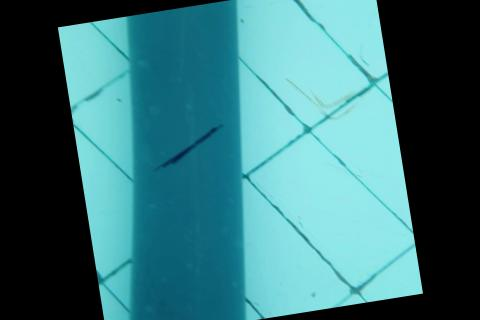keretakan: (145, 122, 230, 175)
